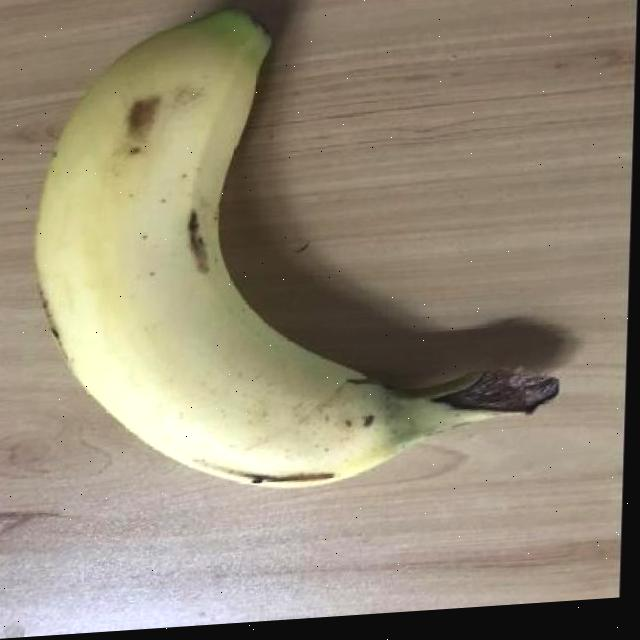banana: (24, 0, 575, 505)
